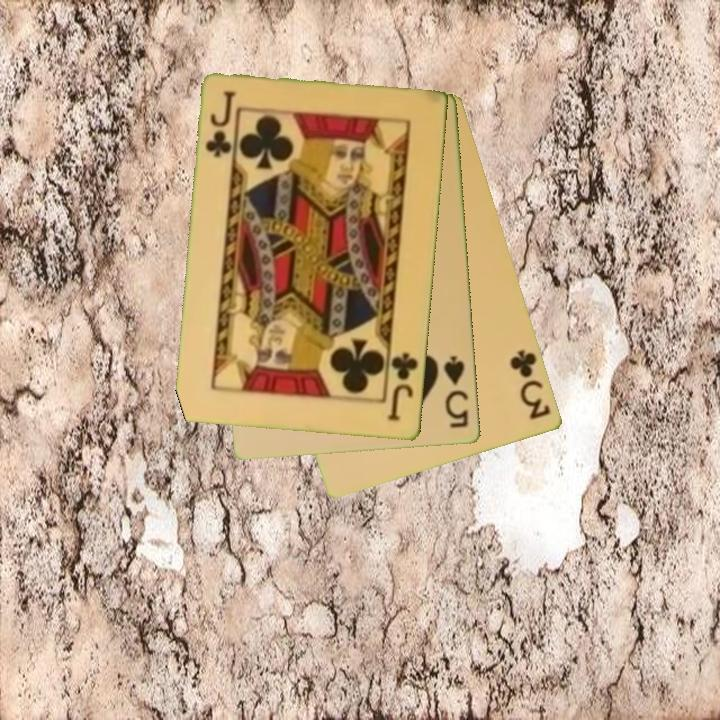3c: (507, 346, 554, 423)
5s: (440, 352, 472, 432)
Jc: (384, 350, 421, 425), (202, 88, 239, 161)
